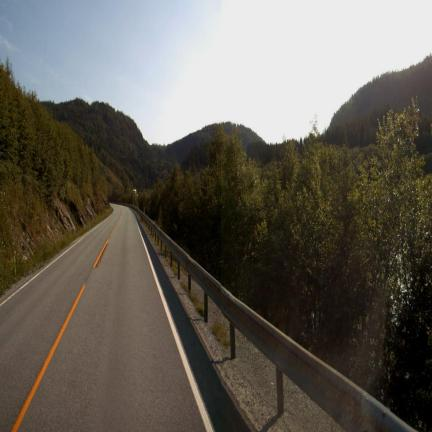Road: (0, 206, 244, 430)
